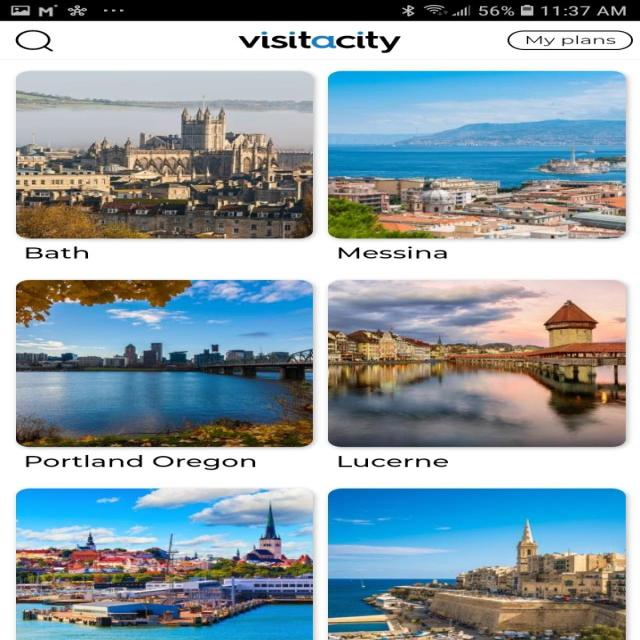Icon: (15, 30, 53, 52)
Image: (327, 70, 625, 238), (15, 280, 313, 447), (327, 279, 625, 446), (16, 71, 313, 238), (327, 488, 625, 640), (15, 488, 313, 640), (237, 31, 401, 53)
Text: (25, 455, 255, 470), (338, 455, 448, 467), (338, 246, 446, 258), (25, 246, 89, 258)
TextButton: (507, 30, 633, 50)
